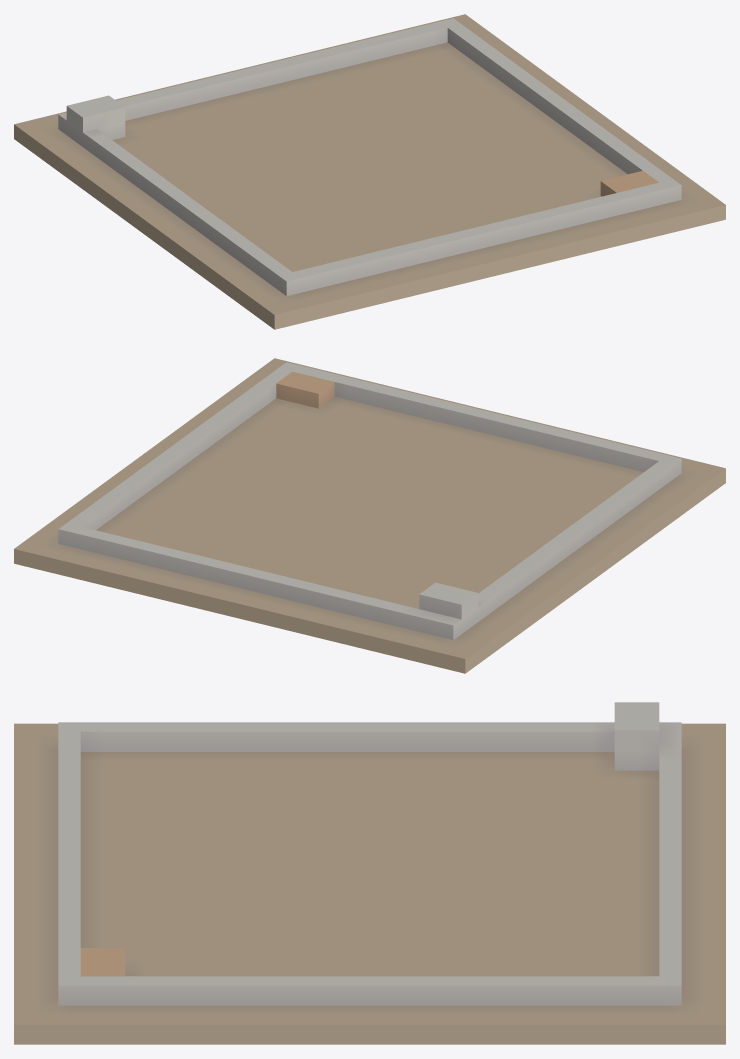
Rendered from life_stage_4.v0.glb.
3 renders of one model, top to bottom at view 1: azimuth 30°, elevation 25°; view 2: azimuth 150°, elevation 25°; view 3: azimuth 270°, elevation 25°, orthographic. The views are drawn at different scales.
Visible parts, largest first — view 1: life_stage_4; view 2: life_stage_4; view 3: life_stage_4.
Part boxes in pixels (bbox=[...]): life_stage_4: bbox=[14, 14, 725, 329]; life_stage_4: bbox=[14, 358, 725, 673]; life_stage_4: bbox=[14, 702, 725, 1044].
Size of the model in its own units: 4 by 0.375 by 4.
